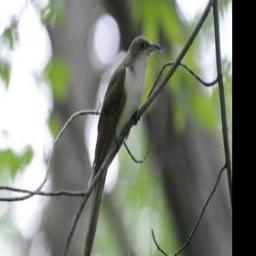Cuckoo: (79, 32, 161, 256)
